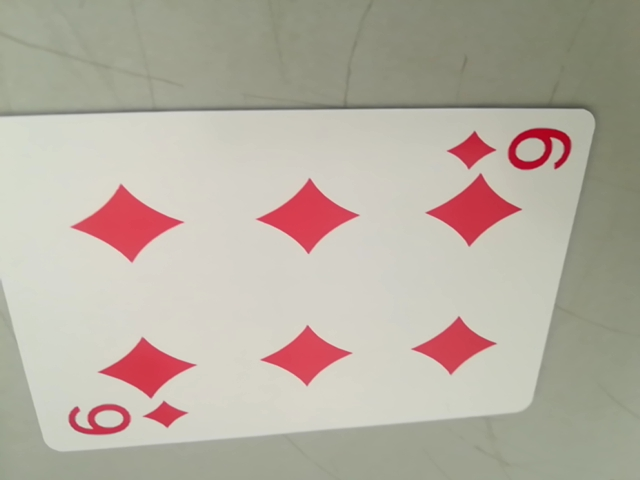fk 6: (60, 394, 194, 447), (447, 122, 571, 178)
